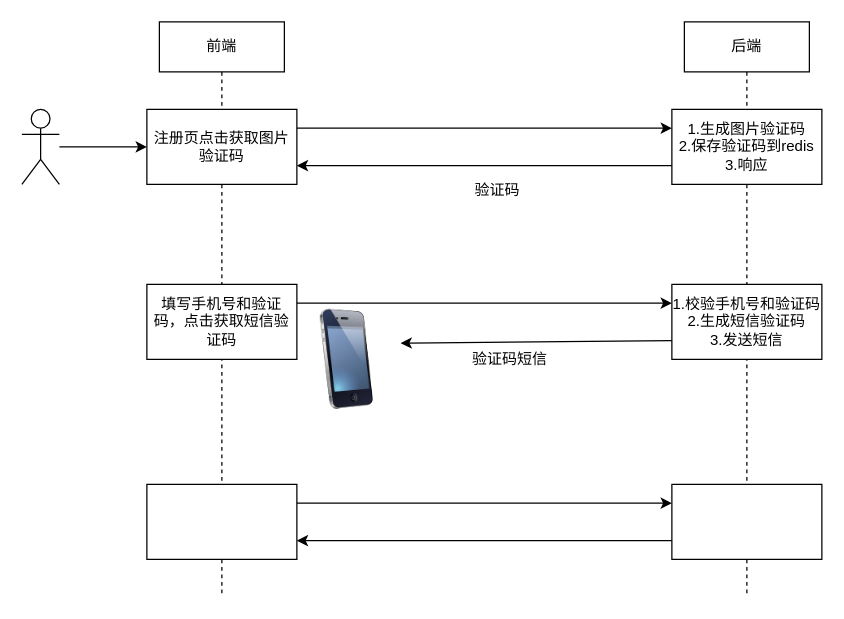
The diagram is 844 pixels wide and 619 high, and some of its shapes have lost their labels. The box of each missing label's shape, as (x1, y1, x2, y2) in pixels:
1.校验验证码和密码 2.保存注册信息到数据库 3.响应: (671, 483, 822, 559)
Actor: (21, 108, 59, 184)
填写短信验证码、密码、确认密码，点击注册: (146, 483, 297, 559)
